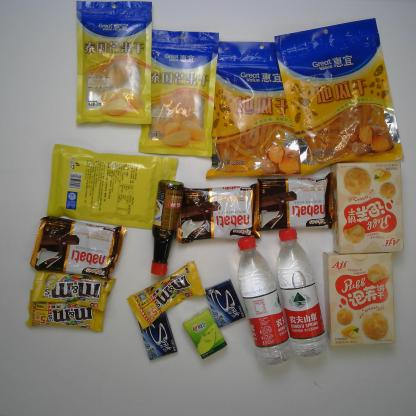Chocolate: (124, 260, 207, 330), (30, 269, 118, 313), (25, 288, 106, 334)
Dessert: (321, 250, 397, 349), (330, 160, 406, 257), (28, 214, 128, 282), (176, 181, 262, 244), (255, 170, 337, 232)
Dried Fruit: (274, 16, 405, 178), (204, 41, 301, 180), (45, 143, 180, 231), (138, 29, 219, 158), (75, 0, 154, 126)
Drink: (236, 235, 296, 367), (276, 227, 328, 359)
Gum: (203, 277, 247, 329), (138, 310, 178, 363)
Seasoner: (149, 178, 185, 276)
Tissue: (181, 304, 228, 361)
